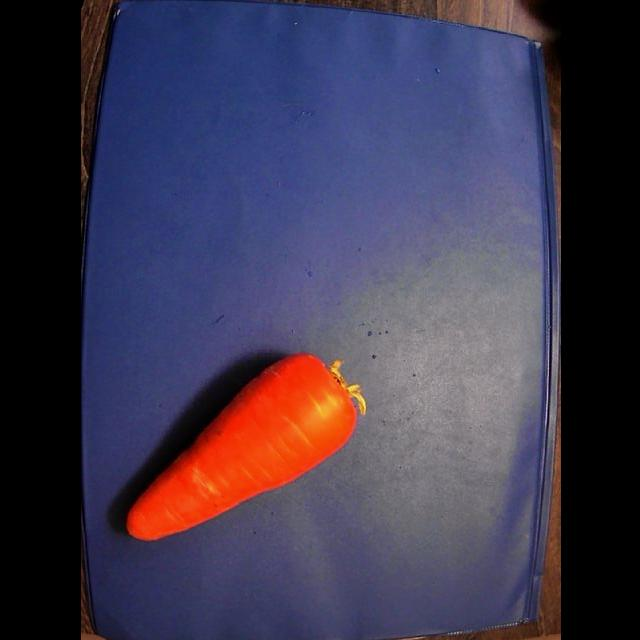zanahoria: (127, 353, 365, 541)
